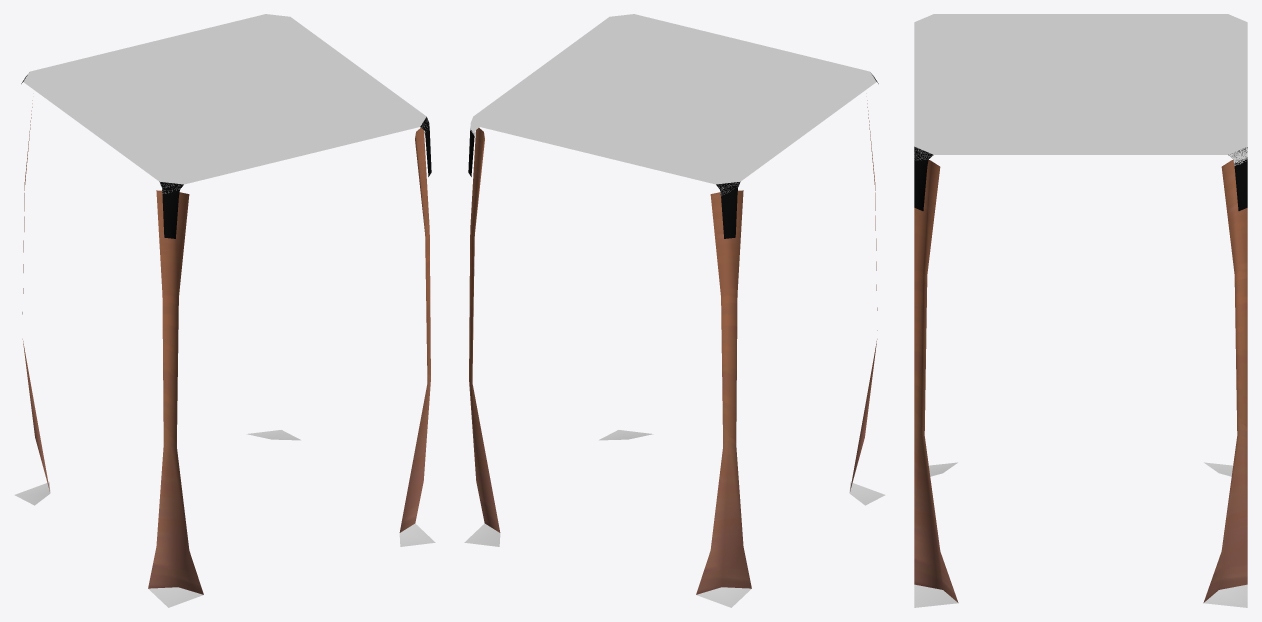
3 views of the same model, side by side, from view 1: azimuth 30°, elevation 25°; view 2: azimuth 150°, elevation 25°; view 3: azimuth 270°, elevation 25° (orthographic). The views are drawn at different scales.
Parts seen in each view (by area): view 1: GrassT__mGrass, CliffThin_1__mCliff, GrassB_1__mGrass, GrassOP_1__mGrassCliffXlu; view 2: GrassT__mGrass, CliffThin_1__mCliff, GrassB_1__mGrass, GrassOP_1__mGrassCliffXlu; view 3: GrassT__mGrass, CliffThin_1__mCliff, GrassB_1__mGrass, GrassOP_1__mGrassCliffXlu.
Part boxes in pixels (bbox=[...]): GrassT__mGrass: bbox=[23, 14, 427, 193]; CliffThin_1__mCliff: bbox=[22, 100, 430, 594]; GrassB_1__mGrass: bbox=[14, 430, 435, 607]; GrassOP_1__mGrassCliffXlu: bbox=[21, 75, 431, 238]; GrassT__mGrass: bbox=[470, 14, 877, 195]; CliffThin_1__mCliff: bbox=[469, 100, 877, 594]; GrassB_1__mGrass: bbox=[464, 430, 885, 607]; GrassOP_1__mGrassCliffXlu: bbox=[468, 73, 878, 238]; GrassT__mGrass: bbox=[914, 14, 1247, 165]; CliffThin_1__mCliff: bbox=[914, 160, 1247, 602]; GrassB_1__mGrass: bbox=[914, 462, 1247, 607]; GrassOP_1__mGrassCliffXlu: bbox=[914, 146, 1247, 210].
Size of the model in its own units: 10 by 15 by 10.
3 materials, 1 textured.
